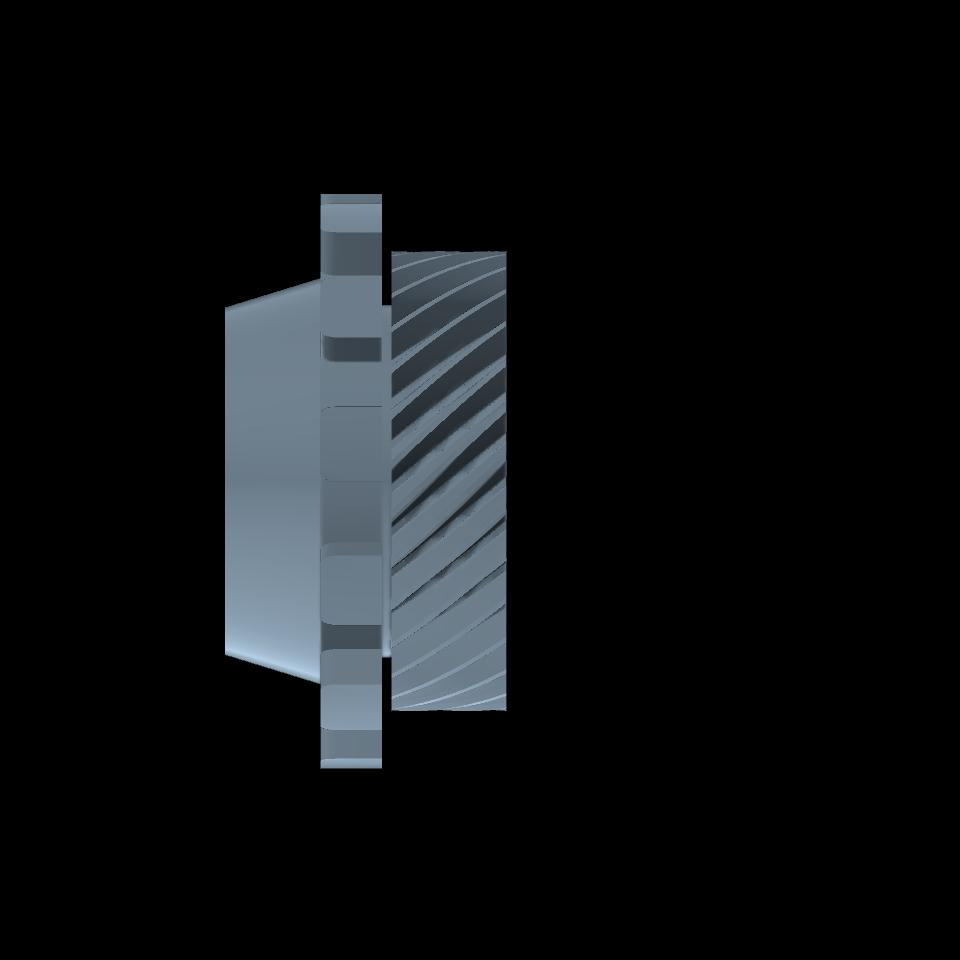Helical: (392, 251, 506, 711)
